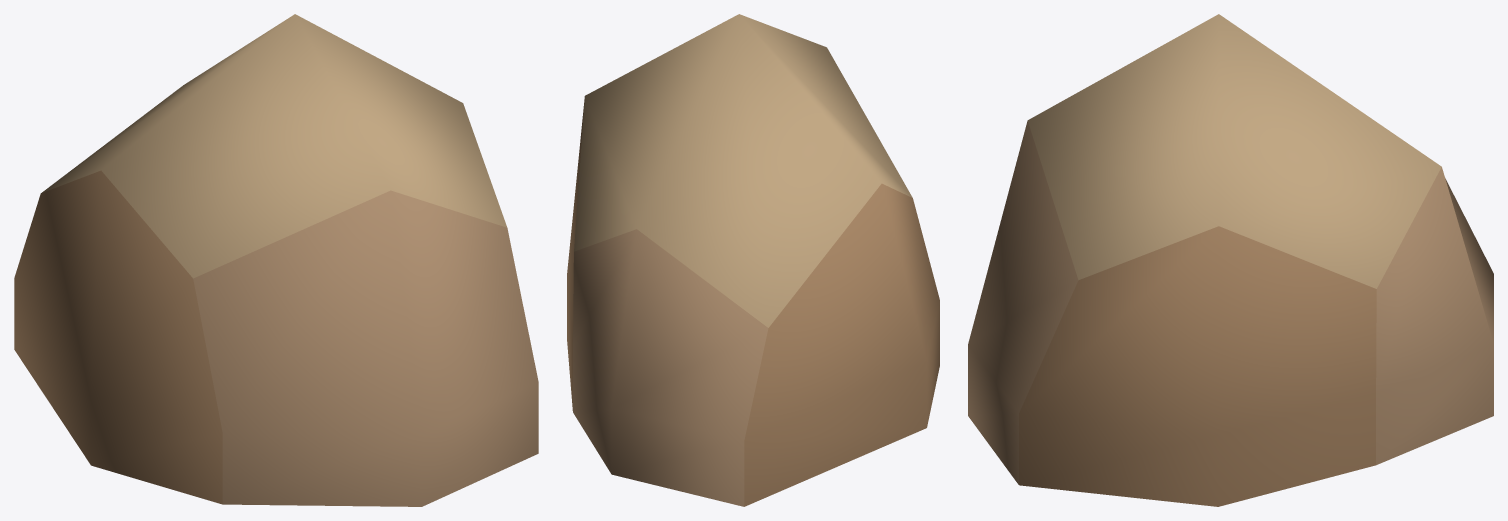
Rendered from consumables-bakedgoods-breadcrumb_v7.glb.
The picture shows the model from 3 angles, left to right: view 1: azimuth 30°, elevation 25°; view 2: azimuth 150°, elevation 25°; view 3: azimuth 270°, elevation 25°; orthographic projection. The views are drawn at different scales.
Parts seen in each view (by area): view 1: BreadCrumb_v7; view 2: BreadCrumb_v7; view 3: BreadCrumb_v7.
Boxes of the visible parts, <box> form: BreadCrumb_v7: <box>14,14,538,506</box>; BreadCrumb_v7: <box>567,14,939,506</box>; BreadCrumb_v7: <box>968,14,1493,506</box>.
Size of the model in its own units: 0.00479 by 0.00469 by 0.00556.
